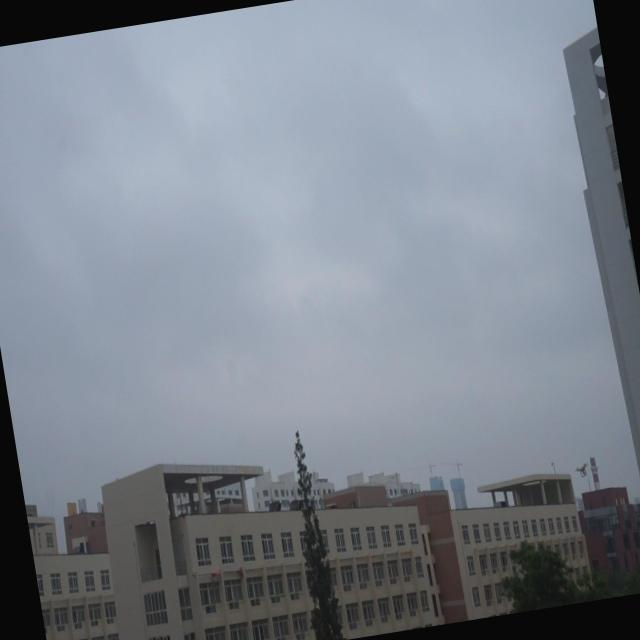drone: (574, 459, 594, 482)
